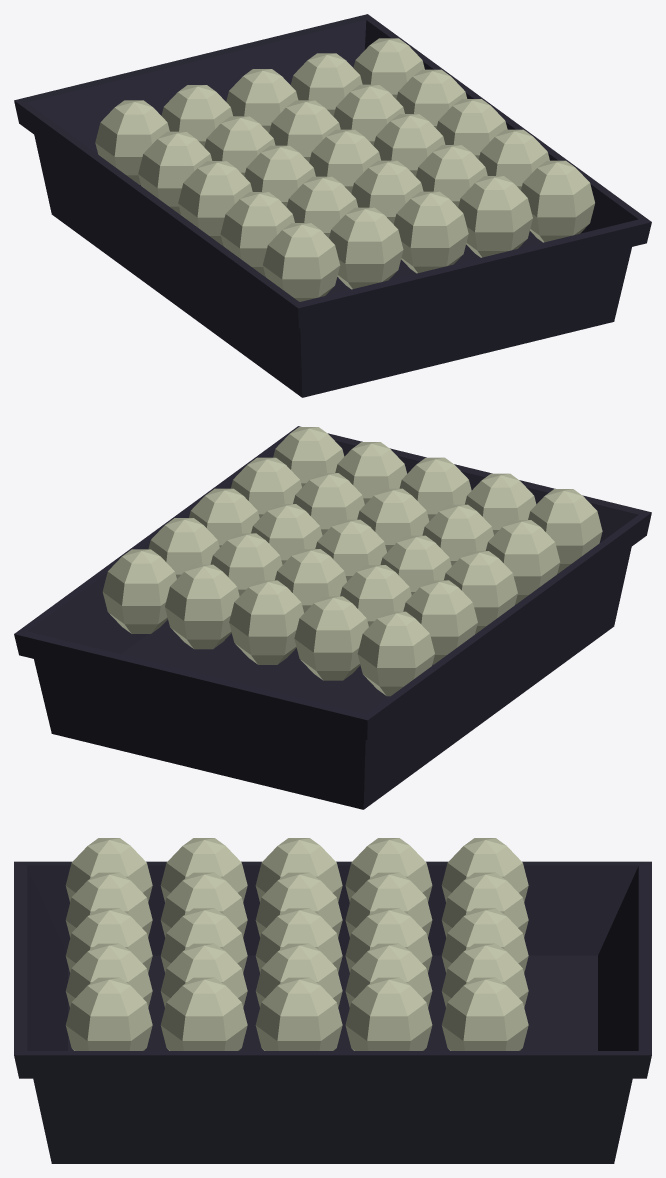
The model's file is BoiledEggs.fbx.
3 renders of one model, top to bottom at view 1: azimuth 30°, elevation 25°; view 2: azimuth 150°, elevation 25°; view 3: azimuth 270°, elevation 25°, orthographic. The views are drawn at different scales.
Visible parts, largest first — view 1: Boiled Egg; view 2: Boiled Egg; view 3: Boiled Egg.
Part boxes in pixels (box(x1,y1,x2,y2)): Boiled Egg: box(14, 14, 651, 397); Boiled Egg: box(14, 426, 651, 809); Boiled Egg: box(14, 838, 651, 1163).
Bounding box in the file's own units: 95.05 × 132 × 38.13.
